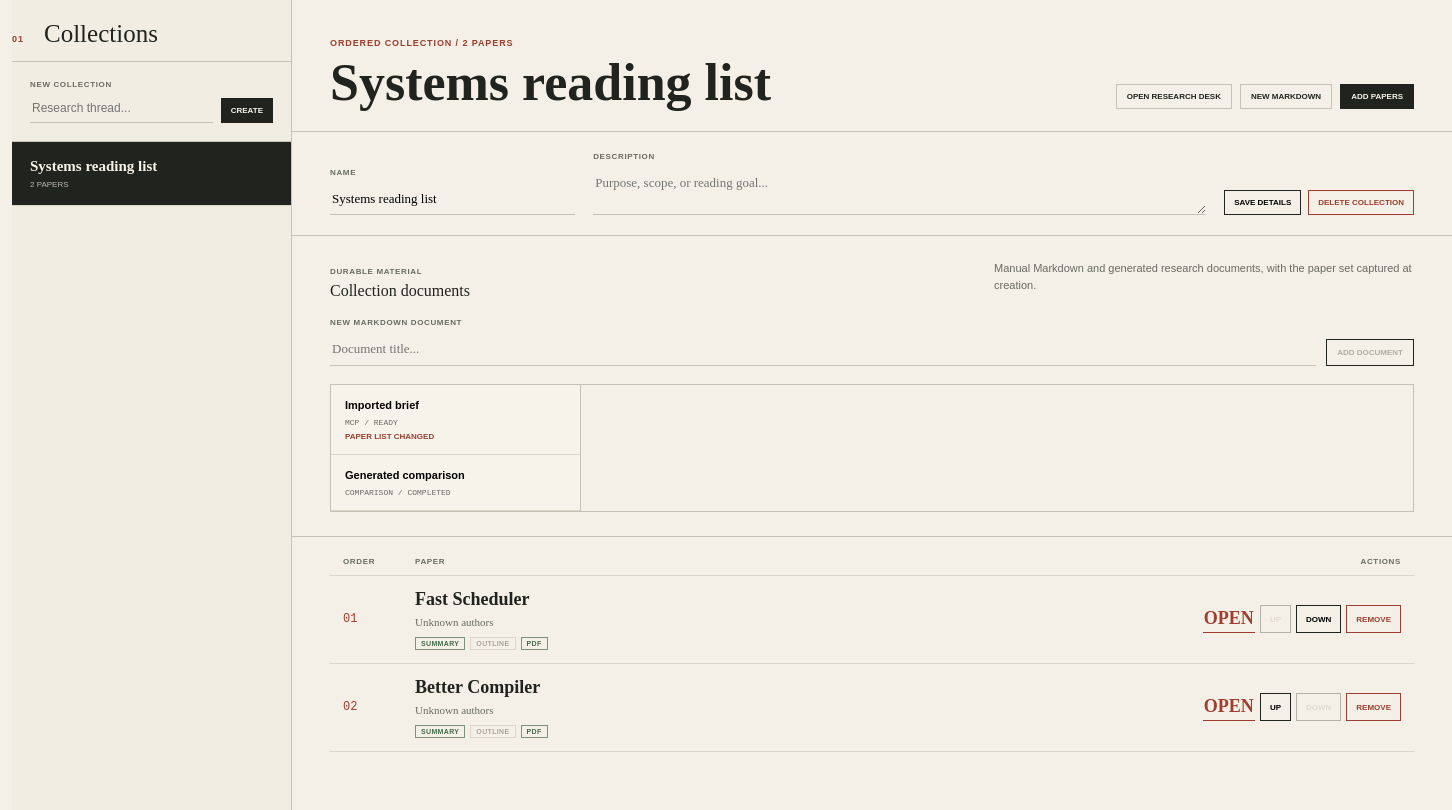
Scenario: CollectionsPage research desk › adds a Web Markdown document
Type "Web working notes" into the field named "New document title" at (823, 350), box [330,333,1316,366]
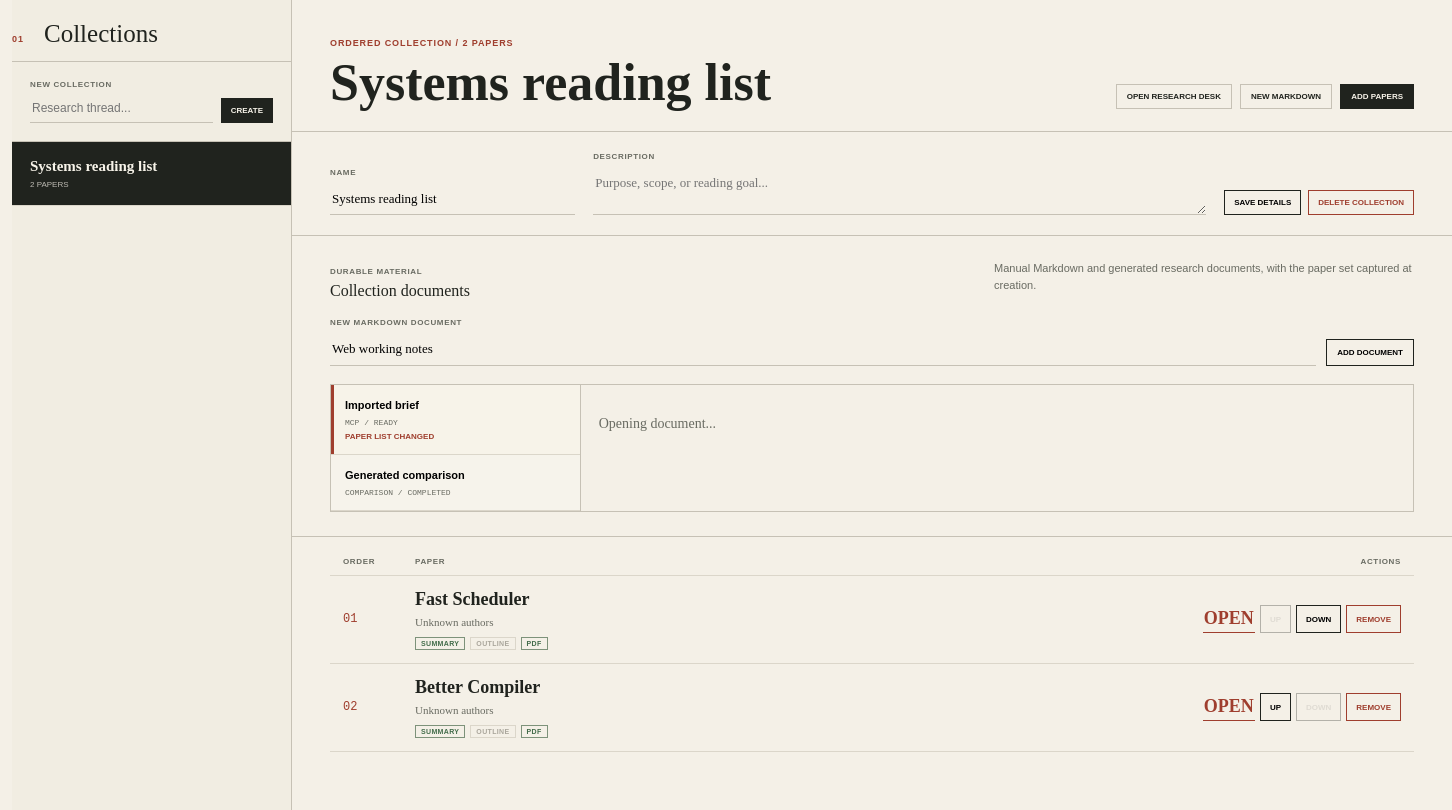
Click the button "Add document" at (1370, 352), box [1326,339,1414,366]
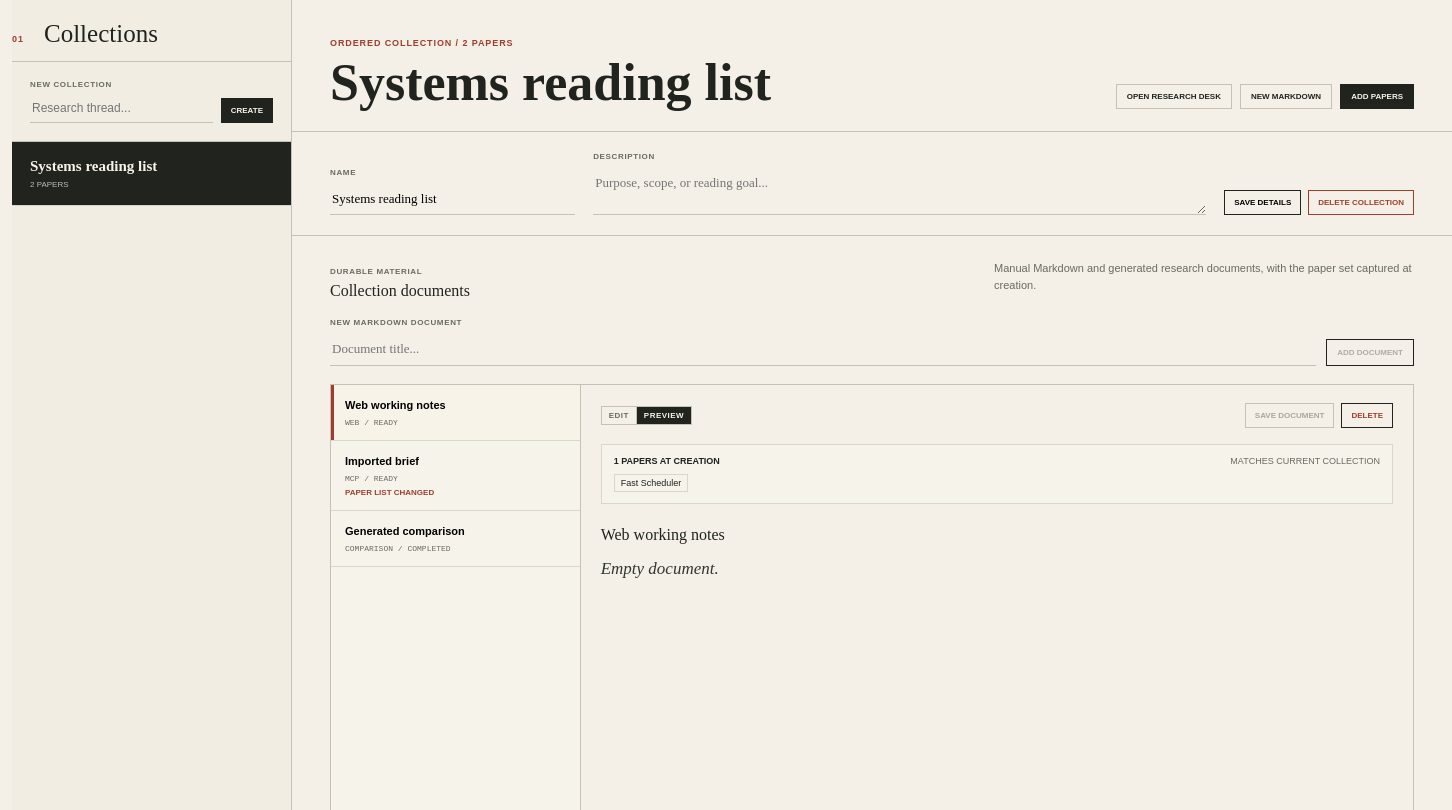
Result: the heading "Web working notes" is shown at [601,526,725,543]
